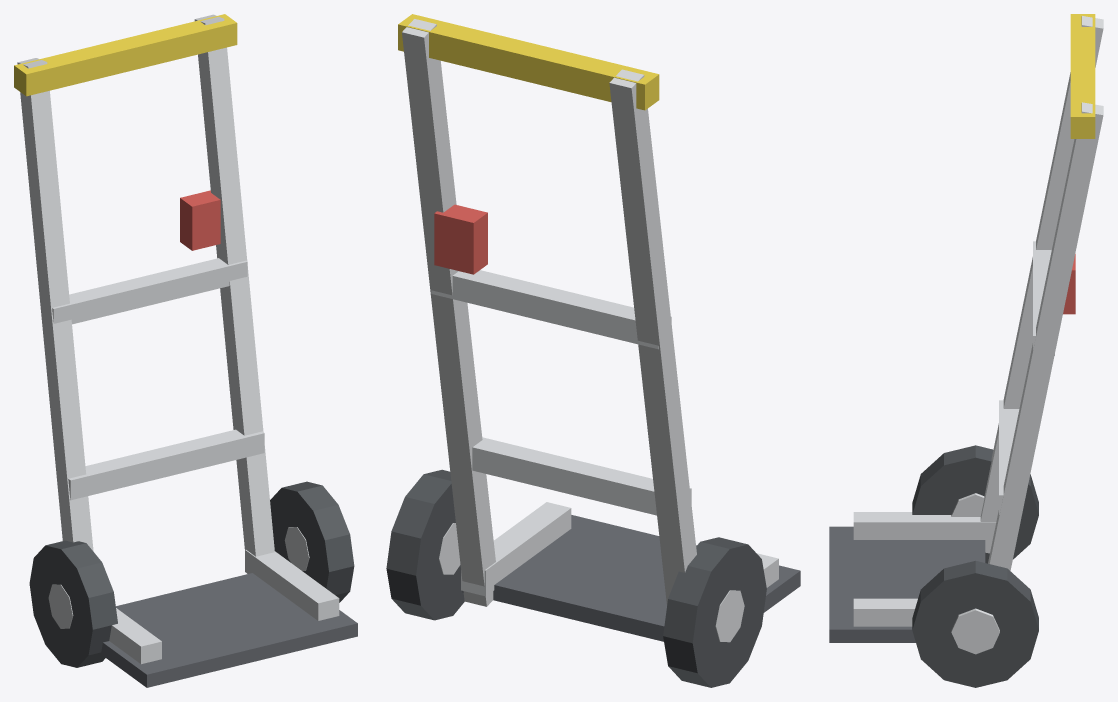
Rendered from sack-truck.glb.
3 views of the same model, side by side, from view 1: azimuth 30°, elevation 25°; view 2: azimuth 150°, elevation 25°; view 3: azimuth 270°, elevation 25° (orthographic). The views are drawn at different scales.
Visible parts, largest first — view 1: parcel-depot-and-sorting-hall-sack-truck; view 2: parcel-depot-and-sorting-hall-sack-truck; view 3: parcel-depot-and-sorting-hall-sack-truck.
Part boxes in pixels (x1,y1,x2,y2): parcel-depot-and-sorting-hall-sack-truck: (14,14,357,687); parcel-depot-and-sorting-hall-sack-truck: (386,14,800,687); parcel-depot-and-sorting-hall-sack-truck: (829,14,1103,687).
Bounding box in the file's own units: 0.63 × 1.25 × 0.5621.
